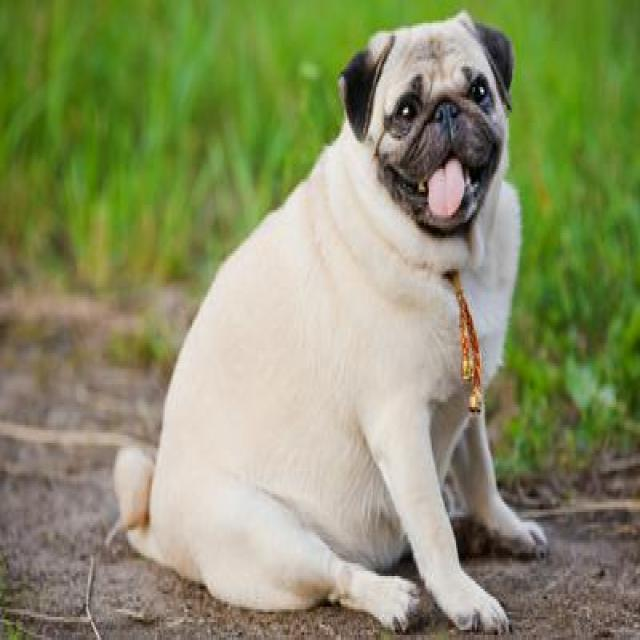Dog: (4, 3, 638, 637)
